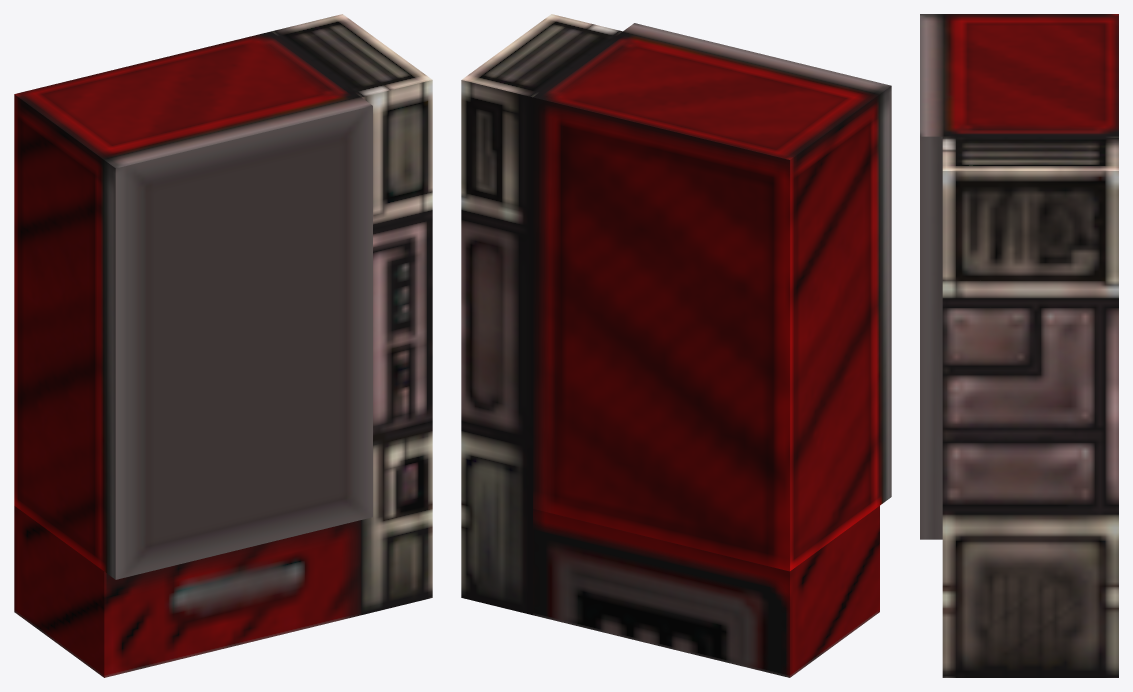
The model's file is Vending_Machine_Large.fbx.
3 renders of one model, left to right at view 1: azimuth 30°, elevation 25°; view 2: azimuth 150°, elevation 25°; view 3: azimuth 270°, elevation 25°, orthographic. The views are drawn at different scales.
Parts seen in each view (by area): view 1: Vendingmachine_large; view 2: Vendingmachine_large; view 3: Vendingmachine_large.
Part boxes in pixels (x1=…): Vendingmachine_large: x1=14, y1=14, x2=432, y2=677; Vendingmachine_large: x1=461, y1=14, x2=891, y2=677; Vendingmachine_large: x1=920, y1=14, x2=1118, y2=677.
Bounding box in the file's own units: 165 × 248 × 88.19.
